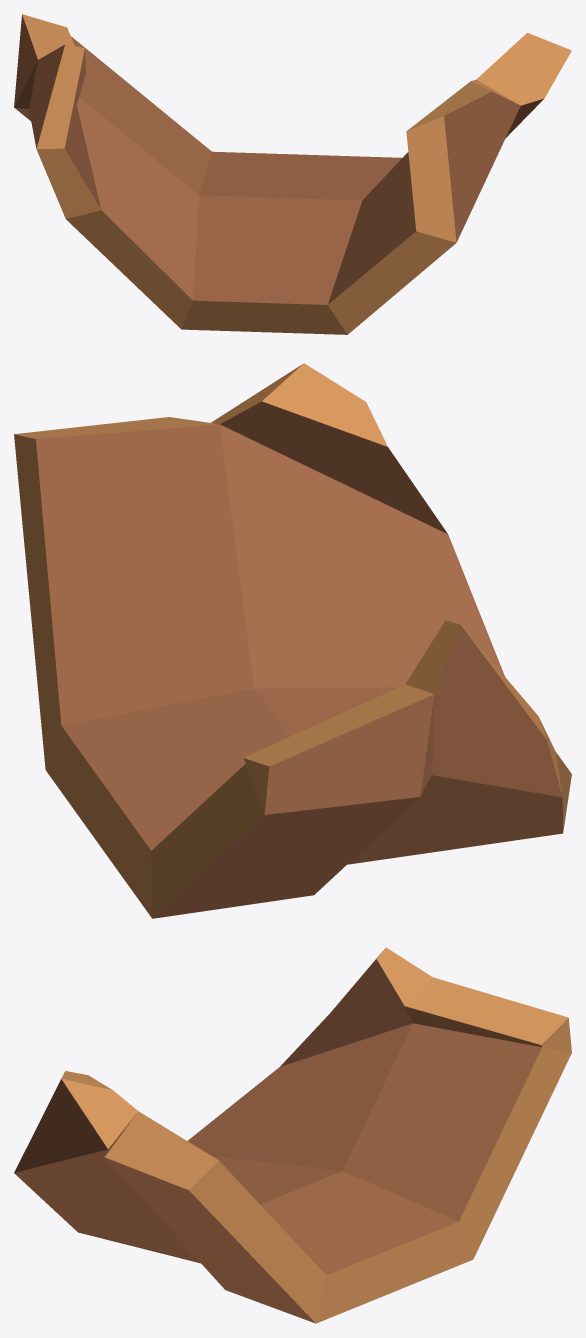
Rendered from SM_Prop_Pot_07.fbx.
The picture shows the model from 3 angles, top to bottom: view 1: azimuth 30°, elevation 25°; view 2: azimuth 150°, elevation 25°; view 3: azimuth 270°, elevation 25°; orthographic projection. The views are drawn at different scales.
Parts seen in each view (by area): view 1: SM_Prop_Pot_07; view 2: SM_Prop_Pot_07; view 3: SM_Prop_Pot_07.
Boxes of the visible parts, x1,y1,x2,y2 form: SM_Prop_Pot_07: [14, 14, 571, 334]; SM_Prop_Pot_07: [14, 363, 571, 918]; SM_Prop_Pot_07: [14, 947, 571, 1323].
Bounding box in the file's own units: 24.24 × 11.42 × 25.04.
